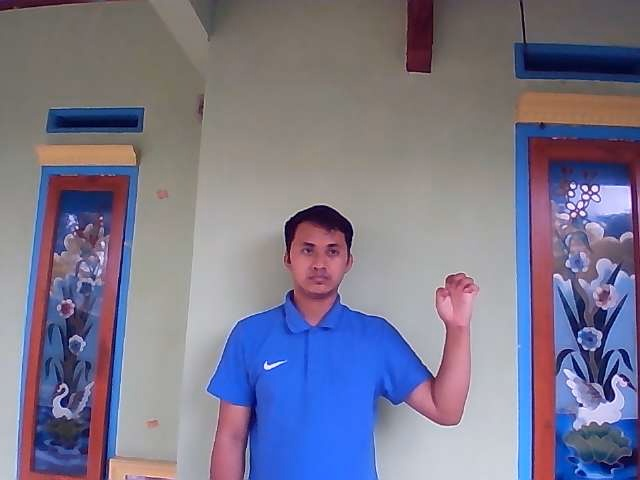E: (434, 272, 480, 328)
